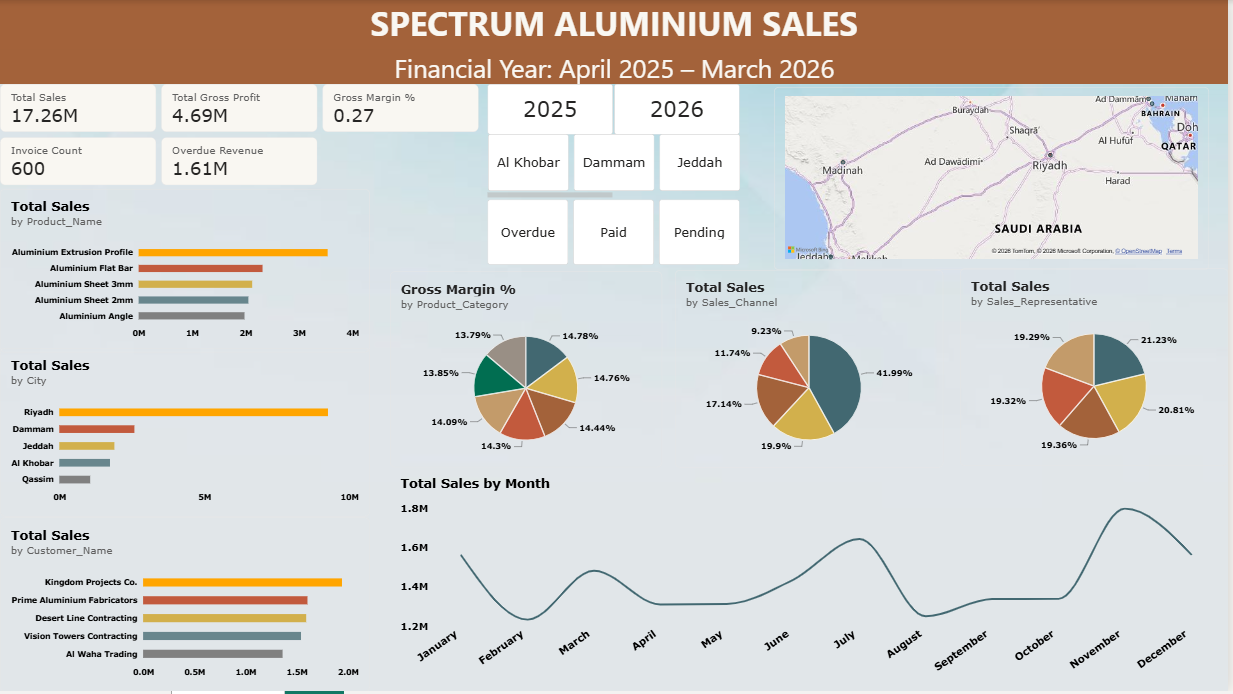

What the dashboard file says about the page in this screenshot:
{"tool":"powerbi","page":{"name":"Page 1","canvas":[1920,1080],"ordinal":0},"visuals":[{"type":"cardVisual","fields":{"Data":["Sales.Total Sales","Sales.Total Gross Profit","Sales.Gross Margin %","Sales.Invoice Count","Sales.Overdue Revenue"]},"box":[0,130.4,748.4,158.7],"z":0},{"type":"lineChart","fields":{"Category":["Sales.Invoice_Date.Variation.Date Hierarchy.Month"],"Y":["Sales.Total Sales"]},"box":[609.5,728.5,1309.6,351.5],"z":1000},{"type":"barChart","fields":{"Category":["Sales.Product_Name"],"Y":["Sales.Total Sales"]},"box":[0,295.4,578.3,255.1],"z":2000},{"type":"barChart","fields":{"Category":["Sales.City"],"Y":["Sales.Total Sales"]},"box":[0,544.3,578.3,263.6],"z":3000},{"type":"pieChart","fields":{"Category":["Sales.Product_Category"],"Y":["Sales.Gross Margin %"]},"box":[609.5,425.2,425.2,306.1],"z":4000},{"type":"barChart","fields":{"Category":["Sales.Customer_Name"],"Y":["Sales.Total Sales"]},"box":[0,807.9,578.3,272.1],"z":5000},{"type":"pieChart","fields":{"Category":["Sales.Sales_Representative"],"Y":["Sales.Total Sales"]},"box":[1499.5,419.5,419.5,309],"z":6000},{"type":"pieChart","fields":{"Category":["Sales.Sales_Channel"],"Y":["Sales.Total Sales"]},"box":[1054.5,422.4,419.5,309],"z":7000},{"type":"advancedSlicerVisual","fields":{"Values":["Sales.Invoice_Date.Variation.Date Hierarchy.Year"]},"box":[762.5,130.4,394,79.4],"z":8000},{"type":"advancedSlicerVisual","fields":{"Values":["Sales.City"]},"box":[762.5,209.8,394,102],"z":9000},{"type":"advancedSlicerVisual","fields":{"Values":["Sales.Payment_Status"]},"box":[762.5,311.8,394,102],"z":10000},{"type":"shape","box":[0,0,1920.1,105.5],"z":11000},{"type":"textbox","box":[1142,896,778,184],"z":12000},{"type":"map","fields":{"Category":["Sales.City"]},"box":[1210.4,136.1,680.3,286.3],"z":13000},{"type":"shape","box":[0,77.4,1920.1,53.9],"z":13001}]}

Visuals, with their boxes in screenshot pixels (x1, y1, x2, y2), scaled from the page's 1920x1080 canvas onto the 1233x694 screenshot:
cardVisual - Sales.Total Sales x Sales.Total Gross Profit: region(0, 84, 481, 186)
lineChart - Sales.Invoice_Date.Variation.Date Hierarchy.Month x Sales.Total Sales: region(391, 468, 1232, 693)
barChart - Sales.Product_Name x Sales.Total Sales: region(0, 190, 371, 354)
barChart - Sales.City x Sales.Total Sales: region(0, 350, 371, 519)
pieChart - Sales.Product_Category x Sales.Gross Margin %: region(391, 273, 664, 470)
barChart - Sales.Customer_Name x Sales.Total Sales: region(0, 519, 371, 693)
pieChart - Sales.Sales_Representative x Sales.Total Sales: region(963, 270, 1232, 468)
pieChart - Sales.Sales_Channel x Sales.Total Sales: region(677, 271, 947, 470)
advancedSlicerVisual - Sales.Invoice_Date.Variation.Date Hierarchy.Year: region(490, 84, 743, 135)
advancedSlicerVisual - Sales.City: region(490, 135, 743, 200)
advancedSlicerVisual - Sales.Payment_Status: region(490, 200, 743, 266)
shape: region(0, 0, 1232, 68)
textbox: region(733, 576, 1232, 693)
map - Sales.City: region(777, 87, 1214, 271)
shape: region(0, 50, 1232, 84)
